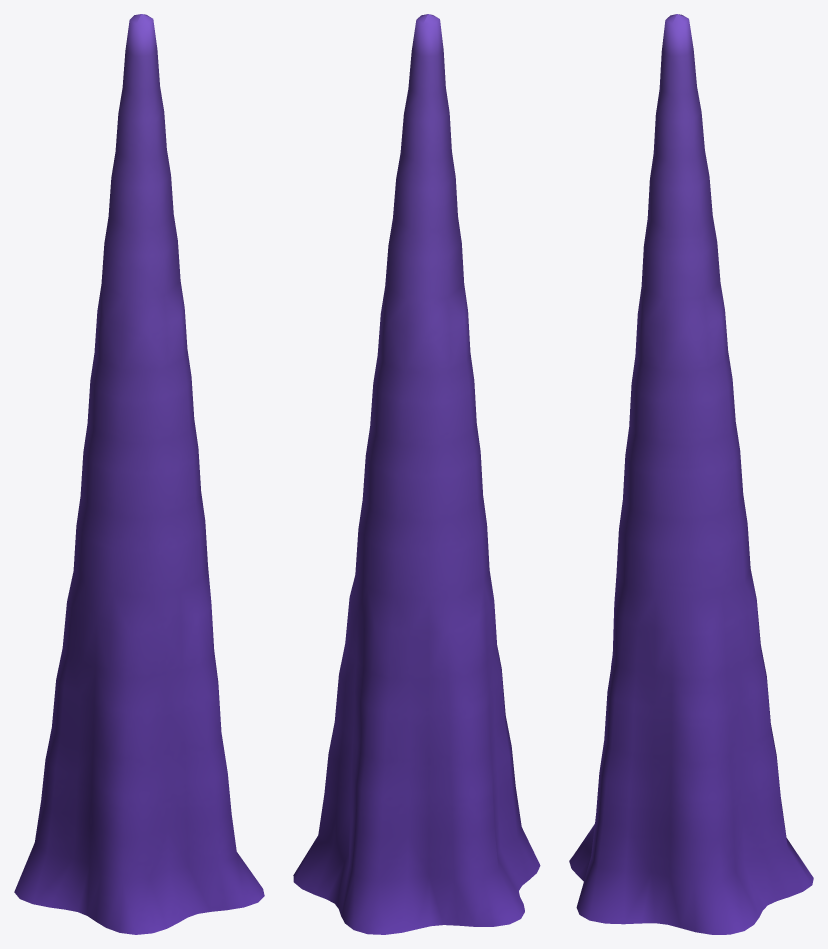
The model's file is Tronc.fbx.
3 views of the same model, side by side, from view 1: azimuth 30°, elevation 25°; view 2: azimuth 150°, elevation 25°; view 3: azimuth 270°, elevation 25° (orthographic).
Parts seen in each view (by area): view 1: tree.027; view 2: tree.027; view 3: tree.027.
Boxes of the visible parts, x1=… form: tree.027: x1=14, y1=14, x2=264, y2=934; tree.027: x1=293, y1=14, x2=540, y2=934; tree.027: x1=569, y1=14, x2=813, y2=934.
Size of the model in its own units: 7.53 by 28.93 by 7.39.
